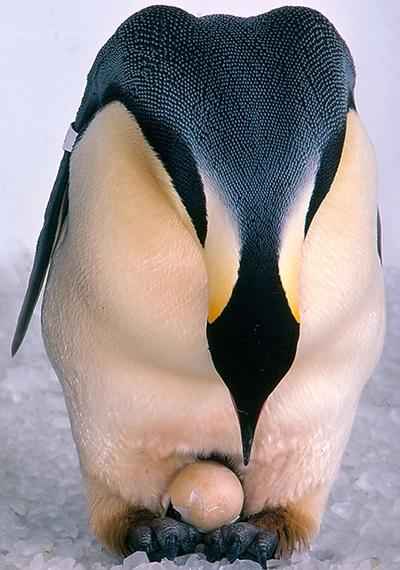emporer: (10, 10, 400, 570)
